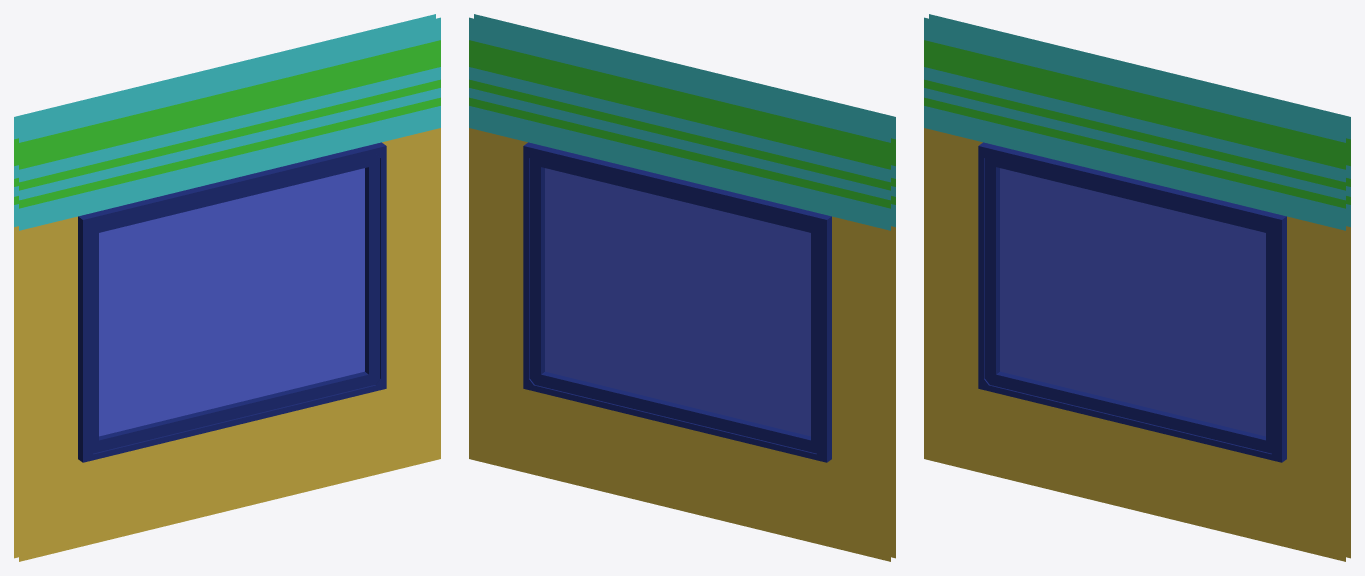
File: Wall_38_Window_Center.fbx
3 renders of one model, left to right at view 1: azimuth 30°, elevation 25°; view 2: azimuth 150°, elevation 25°; view 3: azimuth 330°, elevation 25°, orthographic.
Visible parts, largest first — view 1: Wall_38_Window_Center; view 2: Wall_38_Window_Center; view 3: Wall_38_Window_Center.
Part boxes in pixels (x1,y1,x2,y2): Wall_38_Window_Center: [14, 14, 440, 561]; Wall_38_Window_Center: [469, 14, 895, 561]; Wall_38_Window_Center: [924, 14, 1350, 561].
Size of the model in its own units: 457 by 457 by 27.43.
